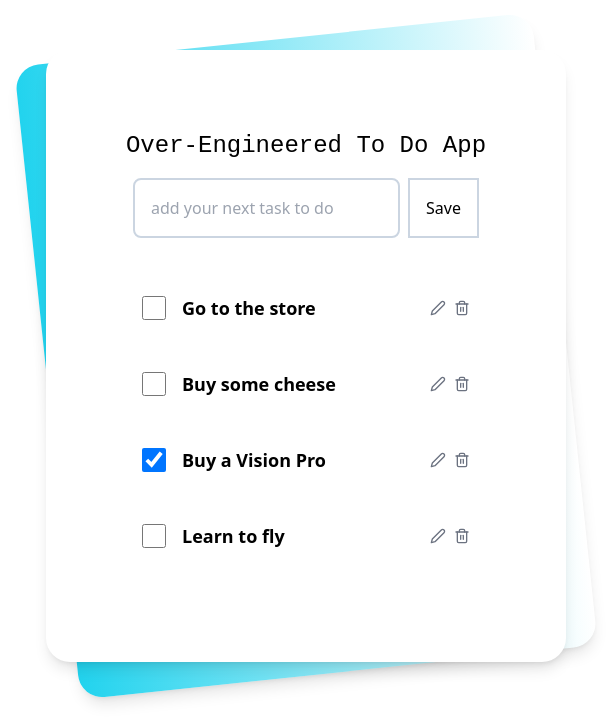
Scenario: Task › can toggle the completed checkbox
What coordinates should you click on to do the following:
click the checkbox labelled "Buy some cheese"
I would click on:
 (154, 384)
Its box is [142,372,166,396].
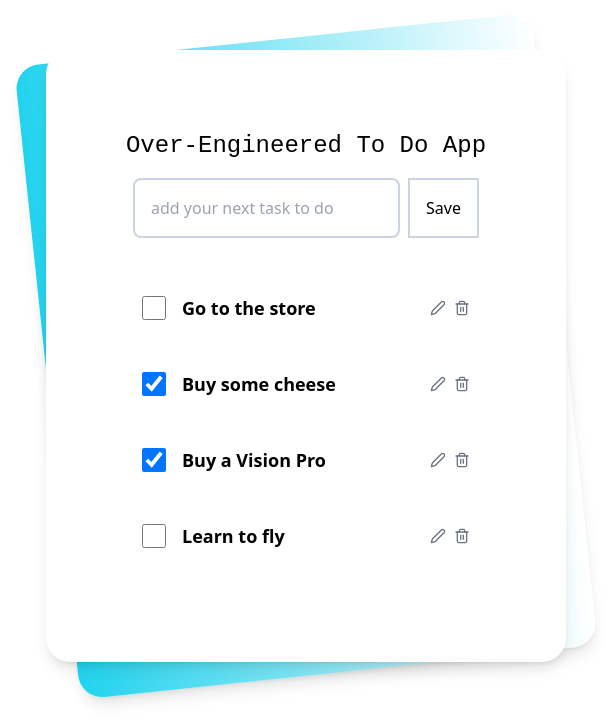
Expected: the checkbox labelled "Buy some cheese" is checked, [142,372,166,396]
